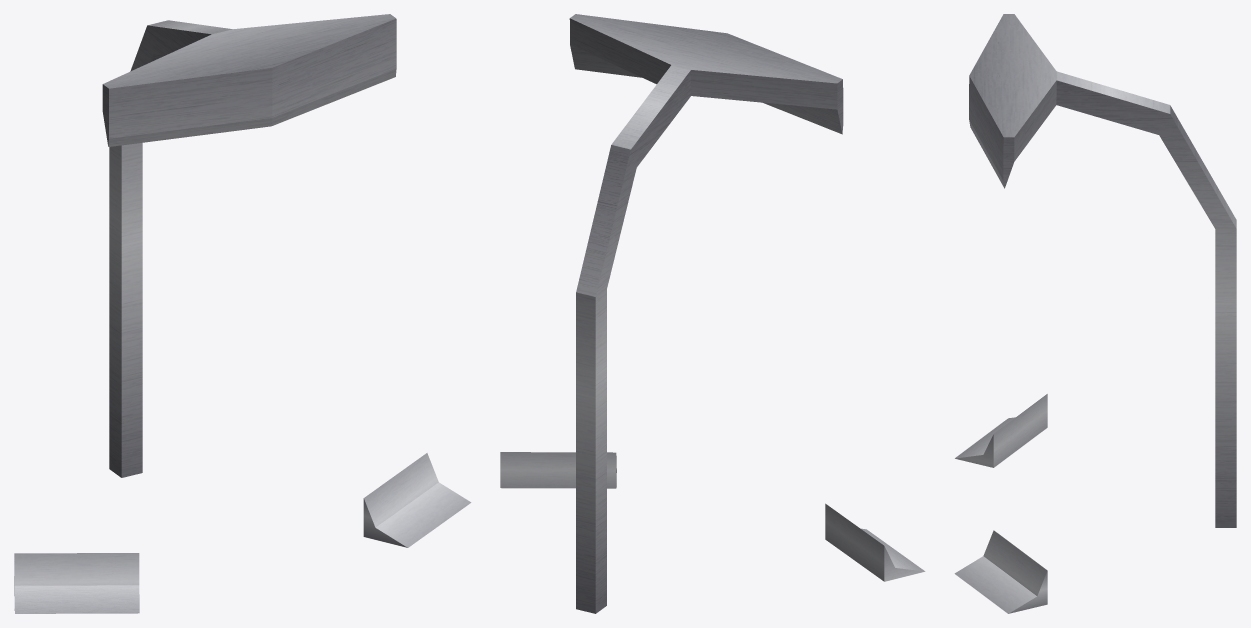
Rendered from Teleporter_01.fbx.
The picture shows the model from 3 angles, left to right: view 1: azimuth 30°, elevation 25°; view 2: azimuth 150°, elevation 25°; view 3: azimuth 270°, elevation 25°; orthographic projection. The views are drawn at different scales.
Parts seen in each view (by area): view 1: Hubworld_Teleporter; view 2: Hubworld_Teleporter; view 3: Hubworld_Teleporter.
Boxes of the visible parts, x1=… form: Hubworld_Teleporter: x1=14, y1=14, x2=471, y2=613; Hubworld_Teleporter: x1=500, y1=14, x2=925, y2=613; Hubworld_Teleporter: x1=954, y1=14, x2=1236, y2=613.
Size of the model in its own units: 21.63 by 23.09 by 13.19.
